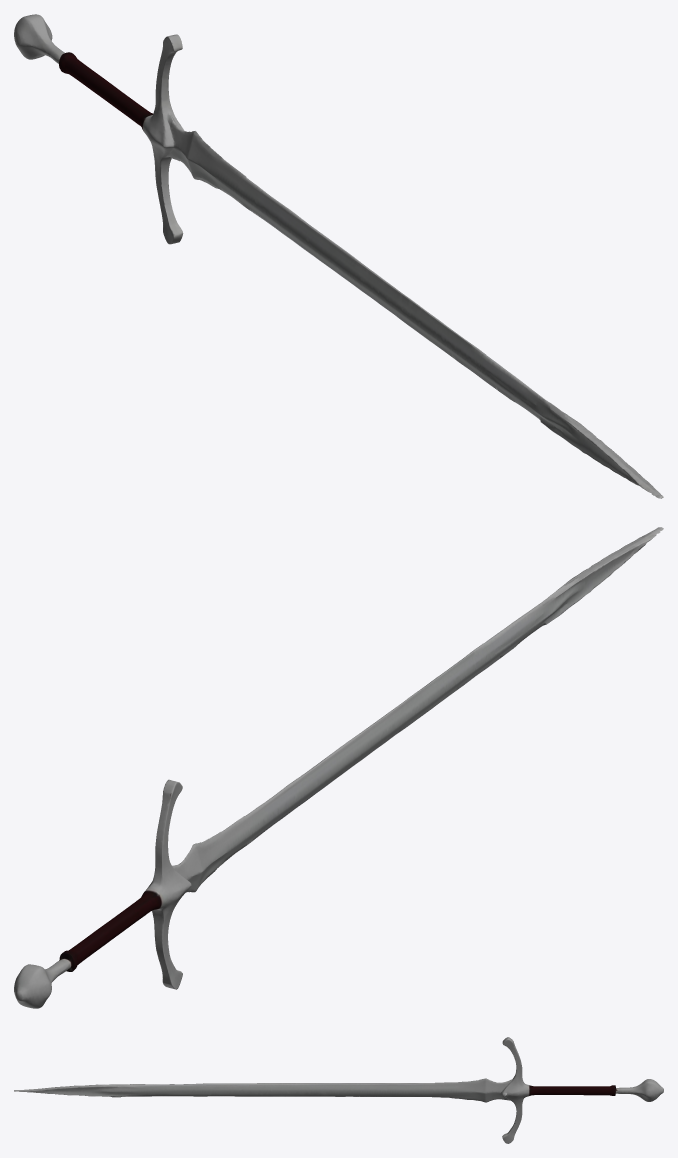
The model's file is medieval+sword+3d+model.fbx.
The picture shows the model from 3 angles, top to bottom: view 1: azimuth 30°, elevation 25°; view 2: azimuth 150°, elevation 25°; view 3: azimuth 270°, elevation 25°; orthographic projection. The views are drawn at different scales.
Visible parts, largest first — view 1: tripo_node_a0dc263f; view 2: tripo_node_a0dc263f; view 3: tripo_node_a0dc263f.
Part boxes in pixels (x1,y1,x2,y2): tripo_node_a0dc263f: [14, 14, 663, 498]; tripo_node_a0dc263f: [14, 527, 663, 1008]; tripo_node_a0dc263f: [14, 1037, 663, 1143].
Bounding box in the file's own units: 0.0314 × 0.1778 × 1.
1 material, 1 textured.
